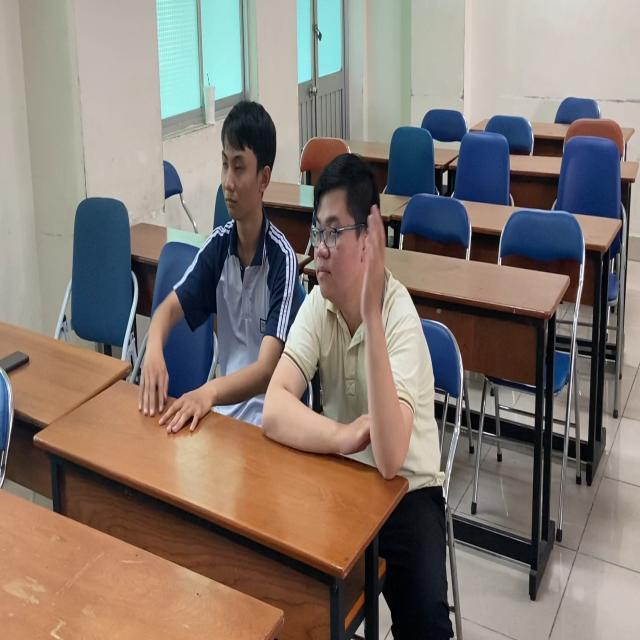raise_hand: (263, 148, 442, 486)
